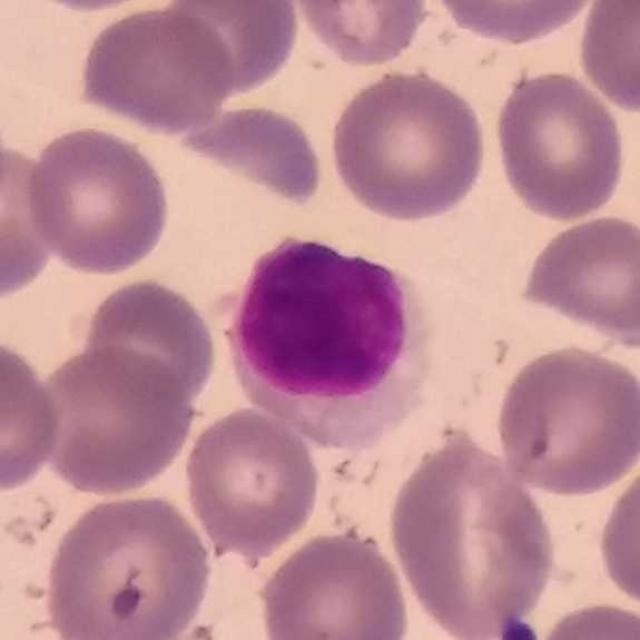Lymphocyte: (222, 226, 428, 435)
Platelets: (495, 614, 542, 640)
RBC: (384, 429, 560, 640), (39, 487, 215, 640), (326, 64, 491, 224), (31, 341, 196, 498), (20, 122, 174, 280), (491, 340, 640, 501), (489, 65, 630, 224), (180, 404, 325, 557), (76, 3, 237, 135), (78, 274, 220, 414), (253, 526, 415, 640), (162, 98, 328, 209), (515, 210, 640, 348), (156, 0, 304, 101), (0, 131, 63, 304), (0, 334, 66, 496), (287, 0, 432, 70), (428, 0, 606, 46), (573, 0, 640, 116), (594, 452, 640, 620), (528, 597, 640, 640), (12, 0, 183, 14)
